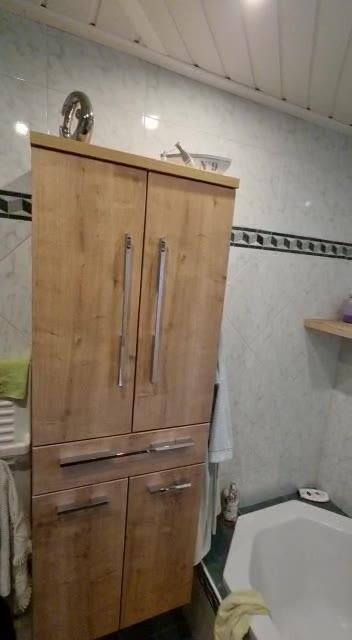cabinet_door: (33, 158, 143, 434), (149, 177, 227, 426), (36, 493, 124, 639), (132, 475, 202, 605), (30, 432, 210, 481)
handle: (39, 447, 127, 482), (152, 223, 169, 396), (122, 218, 137, 374), (49, 492, 113, 523), (149, 438, 196, 465), (148, 477, 194, 504)
